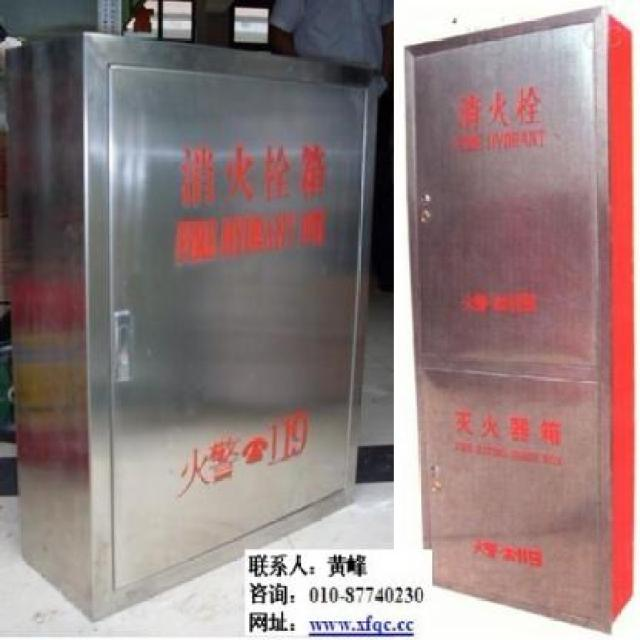firehydrant: (3, 25, 386, 630), (398, 3, 640, 640)
